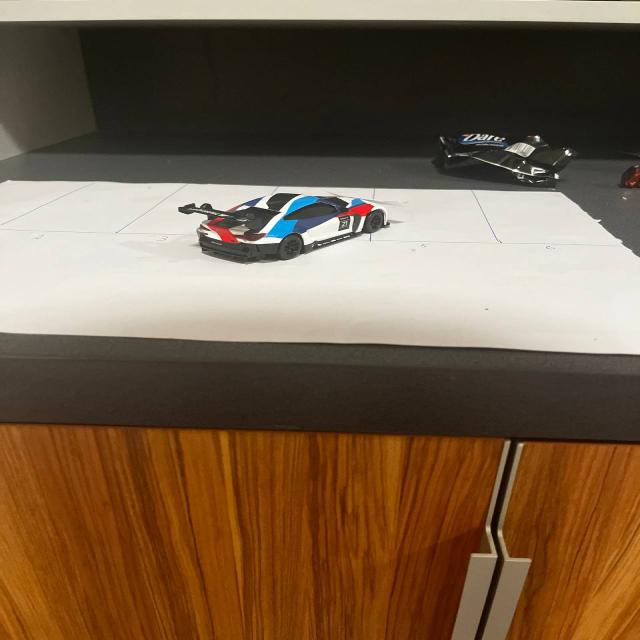cars: (145, 184, 438, 289)
